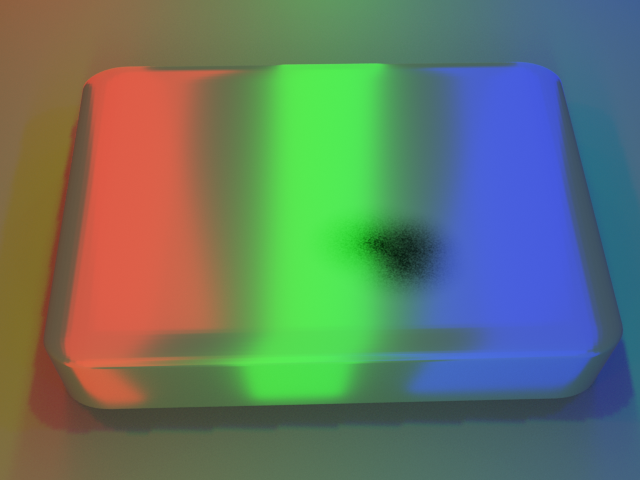stain: (290, 186, 516, 322)
